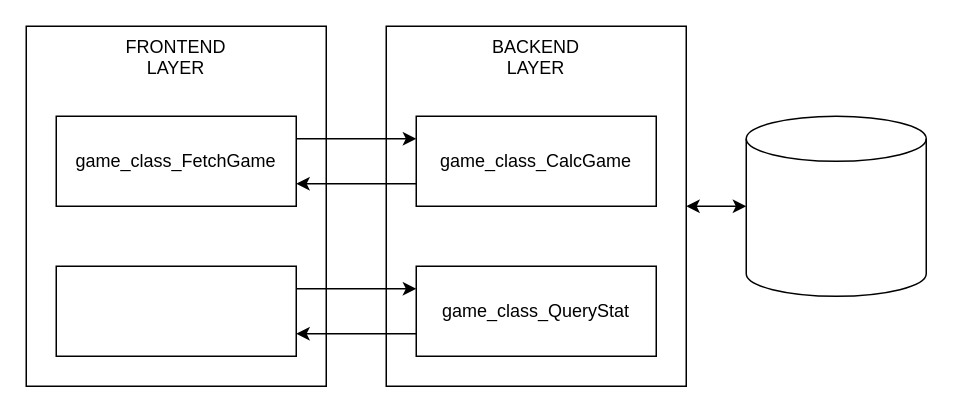
Image size: 953x413. Some labels were removed from this diagram. Each missing label, with the box of its shape:
DATABASE: (745, 115, 926, 296)
game_class_FetchStat: (55, 265, 296, 356)
